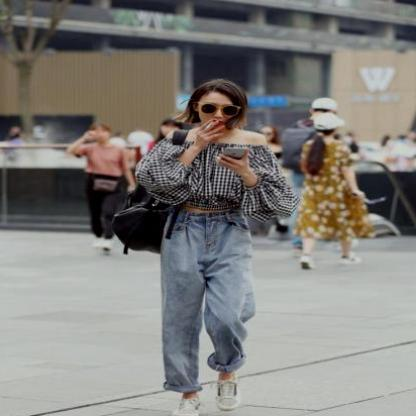cigarette: (202, 118, 221, 133)
person: (133, 79, 276, 415)
